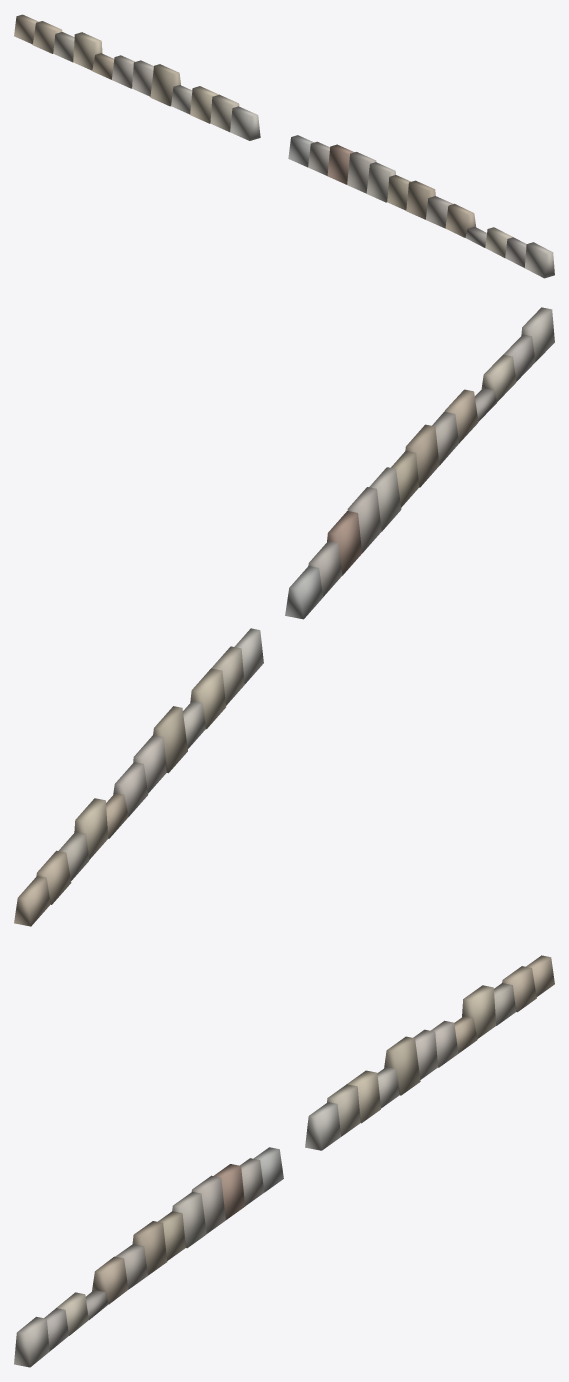
The model's file is farm_6_15_collision.glb.
The picture shows the model from 3 angles, top to bottom: view 1: azimuth 30°, elevation 25°; view 2: azimuth 150°, elevation 25°; view 3: azimuth 330°, elevation 25°; orthographic projection. The views are drawn at different scales.
Parts seen in each view (by area): view 1: geometry_0; view 2: geometry_0; view 3: geometry_0.
Boxes of the visible parts, x1,y1,x2,y2 form: geometry_0: [14, 14, 554, 278]; geometry_0: [14, 307, 554, 926]; geometry_0: [14, 955, 554, 1367].
Bounding box in the file's own units: 4.52 × 4.85 × 41.57.
